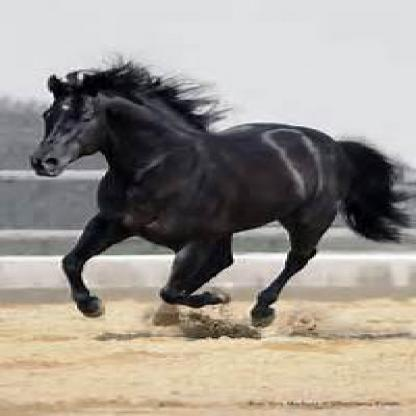horse: (27, 62, 397, 333)
